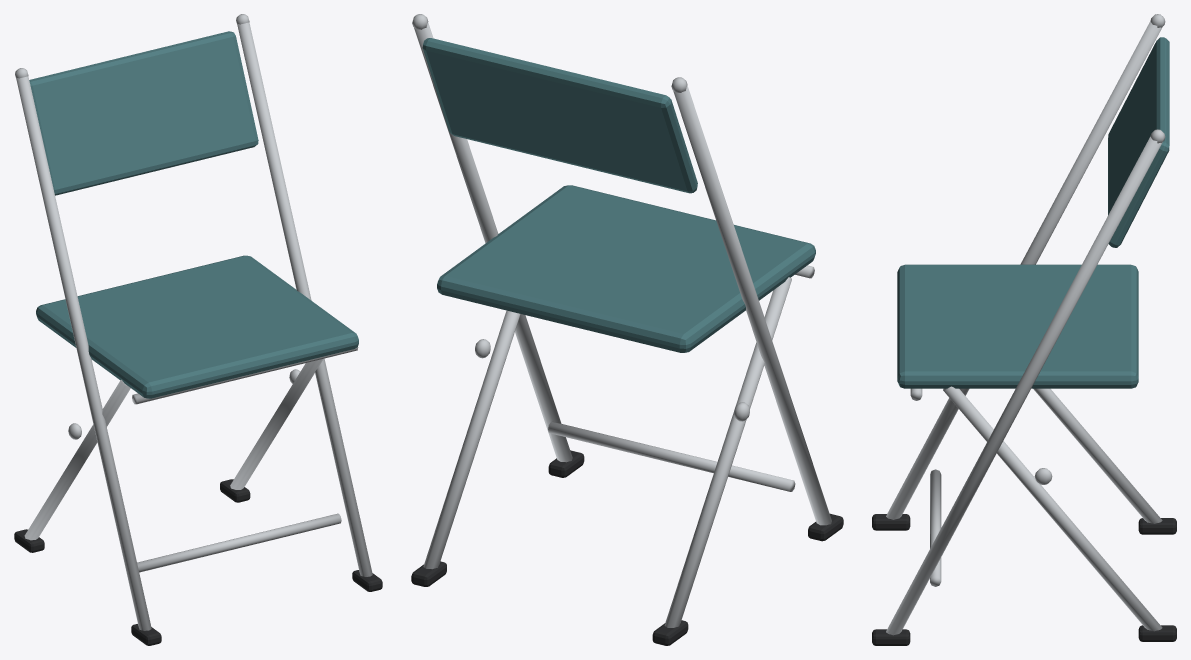
File: chairFolding.glb
The picture shows the model from 3 angles, left to right: view 1: azimuth 30°, elevation 25°; view 2: azimuth 150°, elevation 25°; view 3: azimuth 270°, elevation 25°; orthographic projection. The views are drawn at different scales.
Visible parts, largest first — view 1: chairFolding; view 2: chairFolding; view 3: chairFolding.
Part boxes in pixels (<box>): chairFolding: <box>14,14,382,645</box>; chairFolding: <box>411,14,843,645</box>; chairFolding: <box>872,14,1176,645</box>.
Size of the model in its own units: 0.46 by 0.892 by 0.48.
